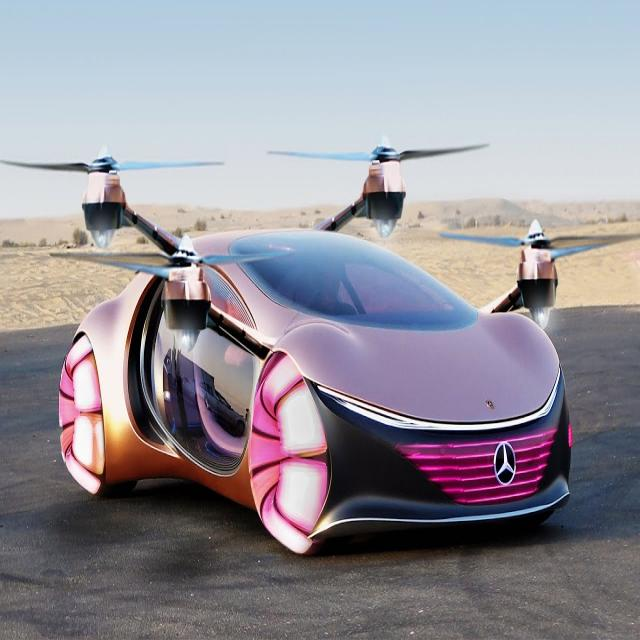car: (49, 198, 581, 556)
